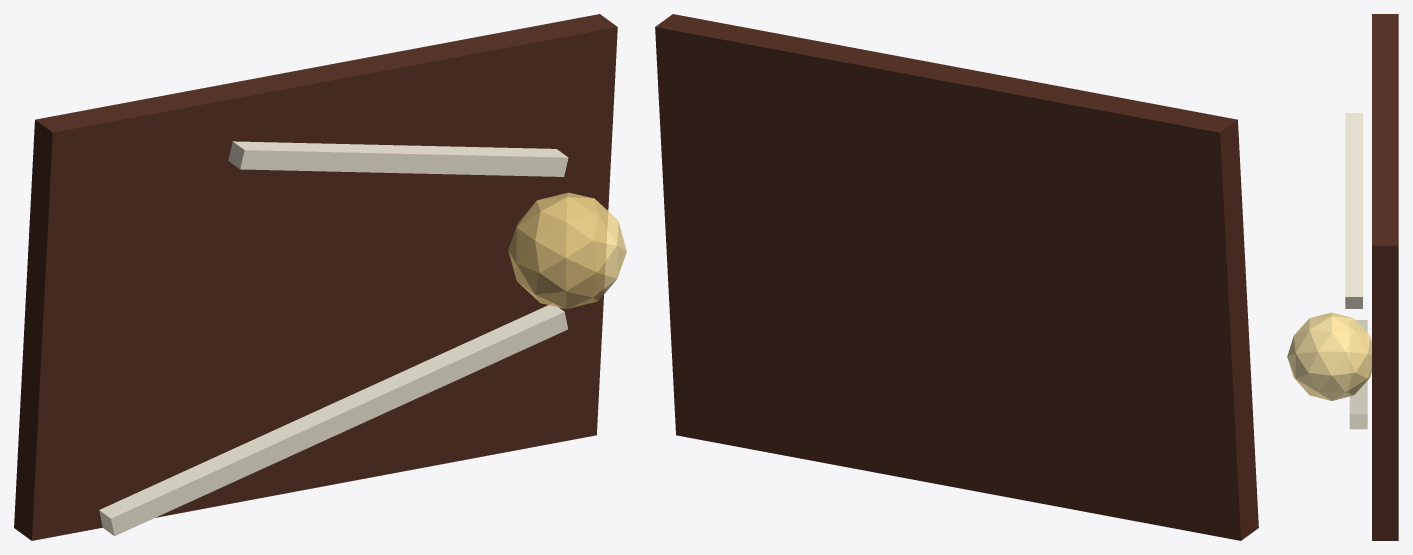
File: 02_world_prop_polish.glb
3 views of the same model, side by side, from view 1: azimuth 30°, elevation 25°; view 2: azimuth 150°, elevation 25°; view 3: azimuth 270°, elevation 25° (orthographic). The views are drawn at different scales.
Parts seen in each view (by area): view 1: object_overlay_plate, edge_wear_a, glow_socket, edge_wear_b; view 2: object_overlay_plate; view 3: object_overlay_plate, glow_socket, edge_wear_b, edge_wear_a.
Boxes of the visible parts, x1=… form: object_overlay_plate: x1=14, y1=14, x2=617, y2=540; edge_wear_a: x1=99, y1=304, x2=567, y2=536; glow_socket: x1=508, y1=192, x2=626, y2=308; edge_wear_b: x1=228, y1=141, x2=568, y2=176; object_overlay_plate: x1=655, y1=14, x2=1258, y2=540; object_overlay_plate: x1=1372, y1=14, x2=1398, y2=540; glow_socket: x1=1287, y1=312, x2=1371, y2=400; edge_wear_b: x1=1345, y1=113, x2=1362, y2=308; edge_wear_a: x1=1349, y1=320, x2=1367, y2=429.
Size of the model in its own units: 1.14 by 0.8087 by 0.25.
